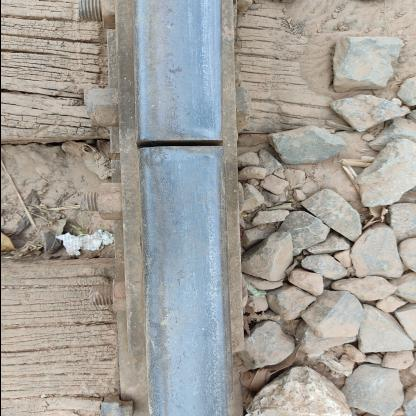Non Defective 2: (114, 114, 232, 184)
Non Defective 3: (41, 0, 157, 369)
